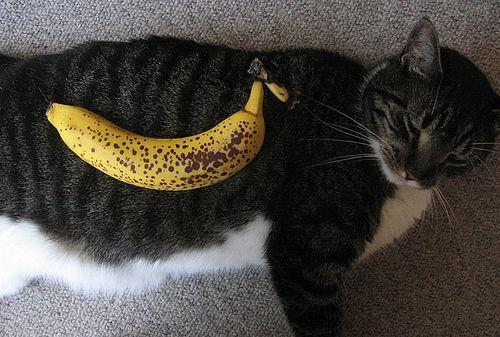banana: (45, 58, 300, 191)
